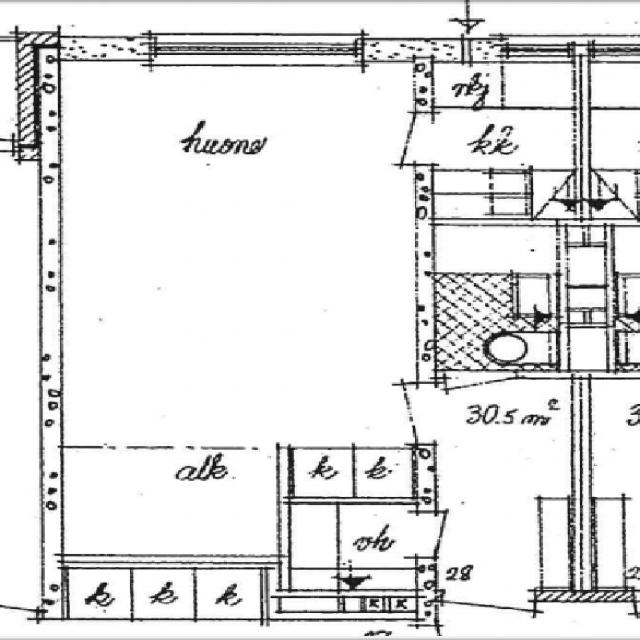door: (331, 382, 432, 443), (343, 112, 432, 165), (446, 369, 516, 428), (415, 511, 495, 557)
